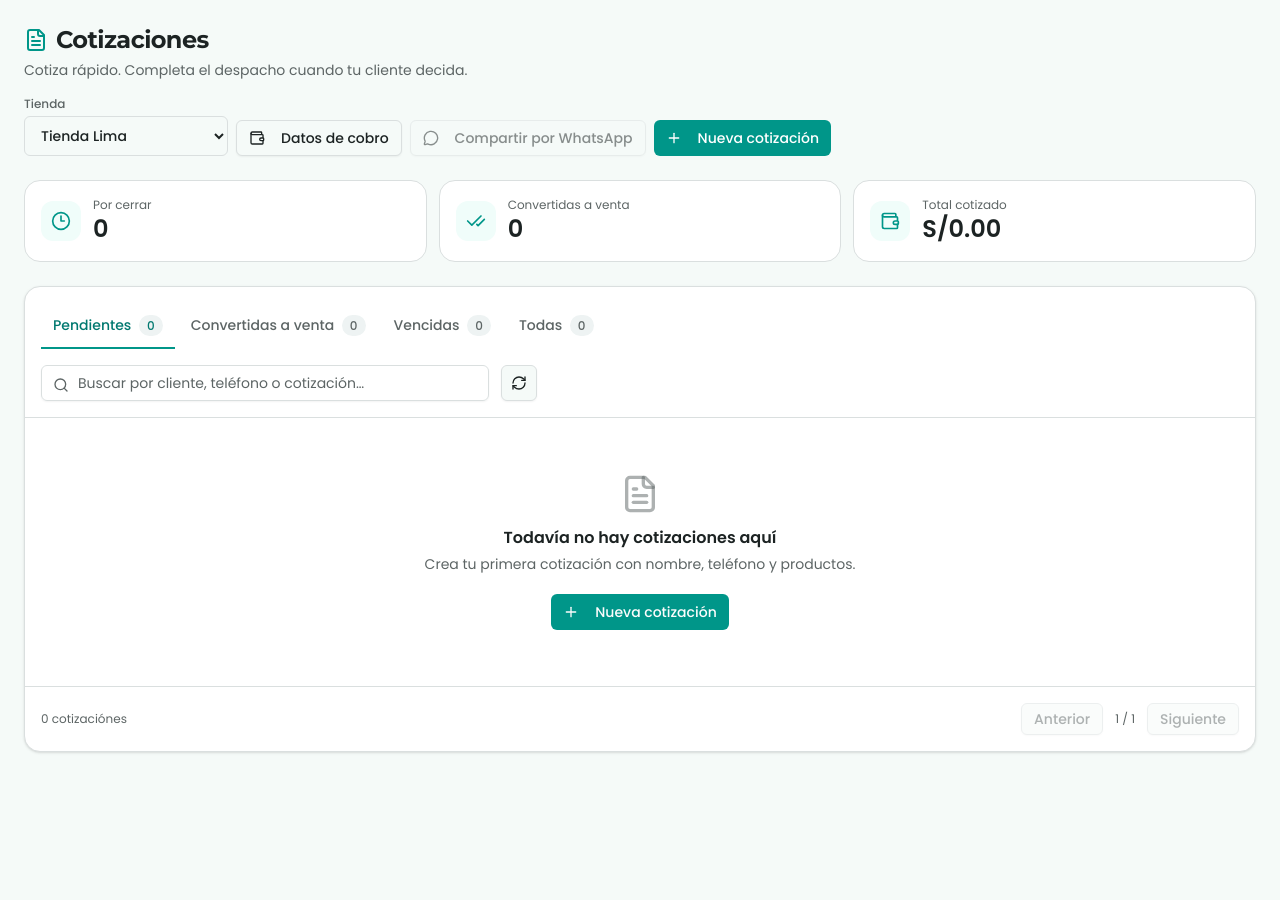
Test: pauses seller list refreshes while hidden or editing payment settings
The width and height of the screenshot is (1280, 900).
What coordinates should you click on to do the following:
click the button "Datos de cobro"
I would click on:
 (319, 138)
Its box is x1=236 y1=120 x2=402 y2=156.
Wait 60000 ms
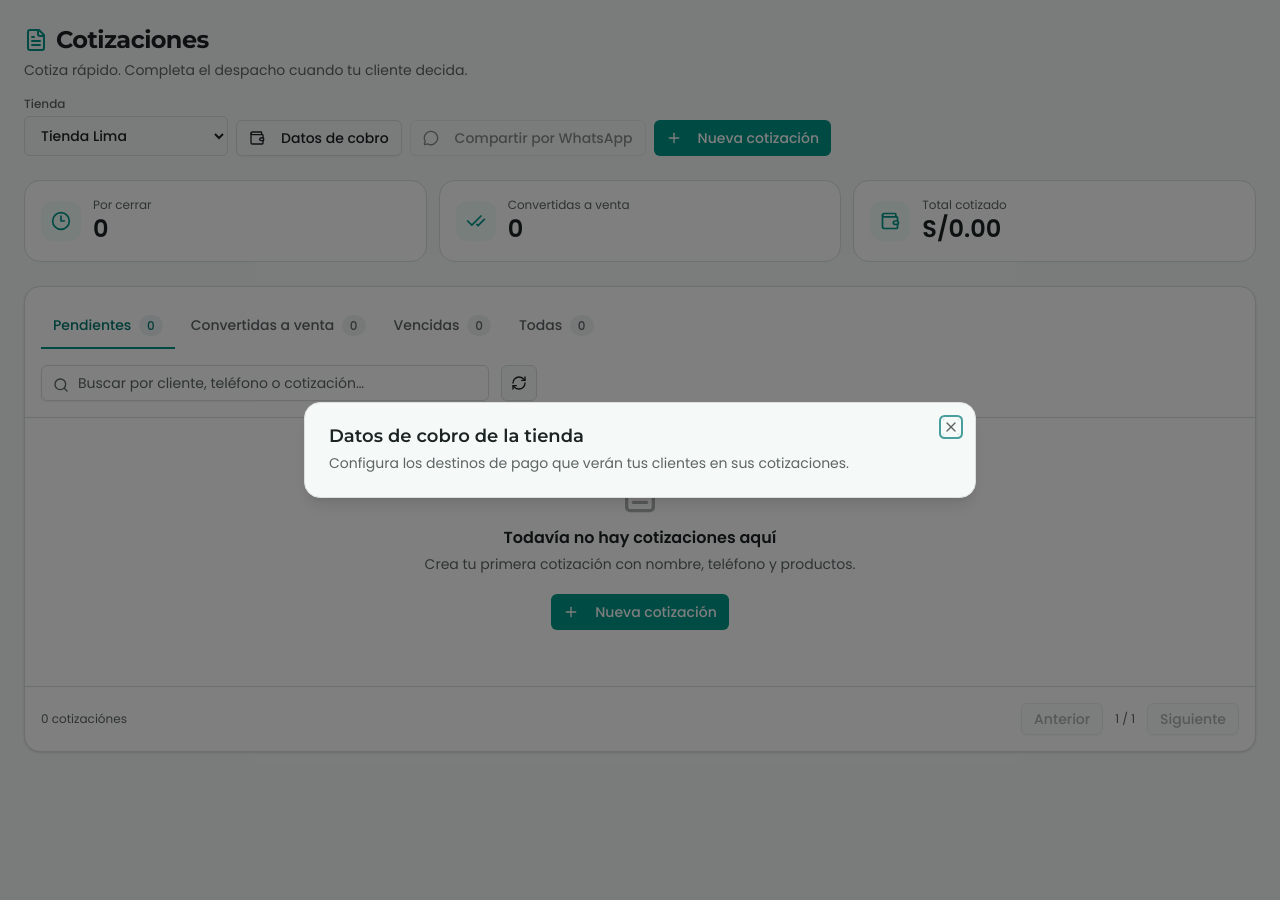
Expected: the dialog is shown, x1=304 y1=402 x2=976 y2=498
